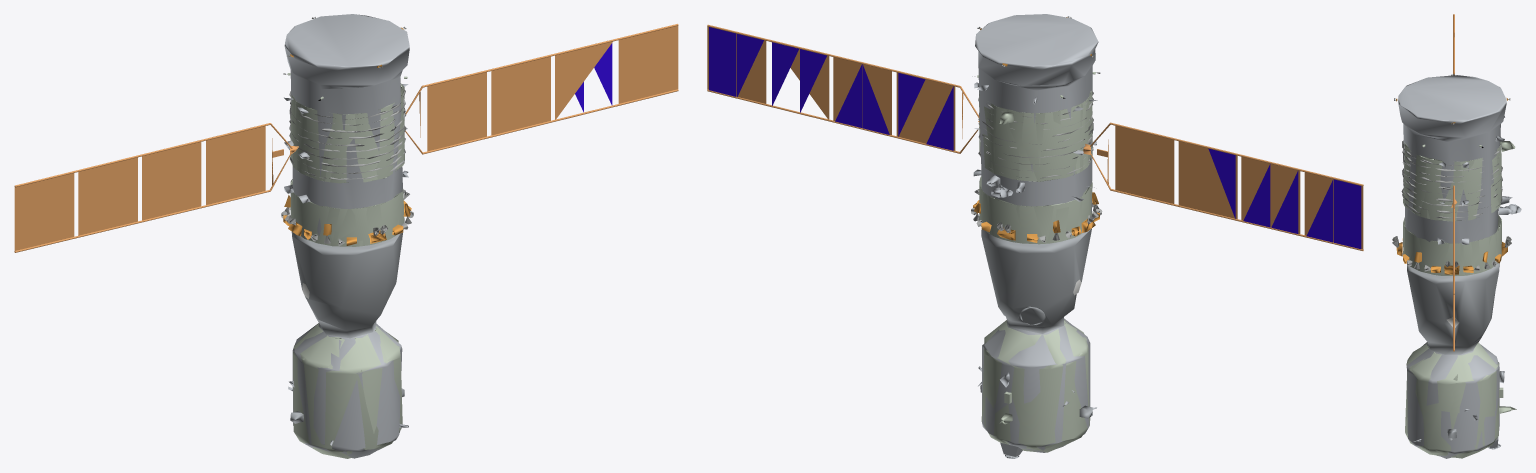
The model's file is tiangong-shenzhou-forward.glb.
The picture shows the model from 3 angles, left to right: view 1: azimuth 30°, elevation 25°; view 2: azimuth 150°, elevation 25°; view 3: azimuth 270°, elevation 25°; orthographic projection. The views are drawn at different scales.
Visible parts, largest first — view 1: shenzhou-forward; view 2: shenzhou-forward; view 3: shenzhou-forward.
Part boxes in pixels (x1=…): shenzhou-forward: x1=14, y1=14, x2=678, y2=458; shenzhou-forward: x1=707, y1=14, x2=1363, y2=458; shenzhou-forward: x1=1392, y1=14, x2=1521, y2=458.
Bounding box in the file's own units: 15.47 × 9.03 × 3.03.
1 material, 1 textured.
